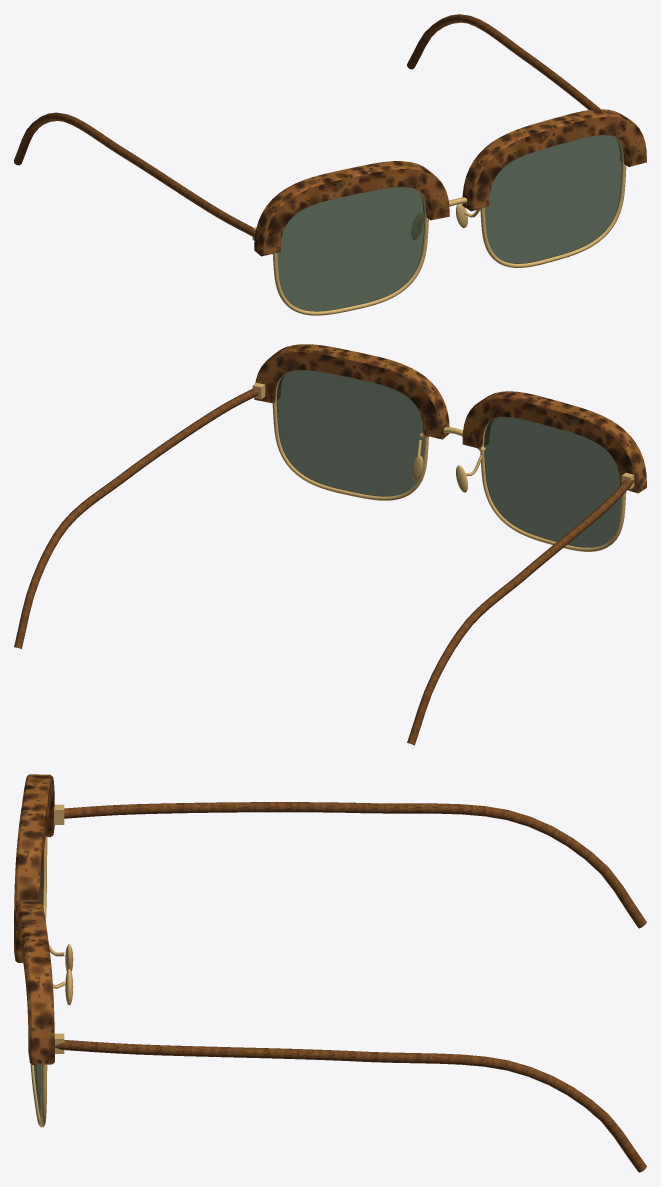
File: BM-S07_Ravi_Havana_Gold_G_15_green_lens.glb
The picture shows the model from 3 angles, top to bottom: view 1: azimuth 30°, elevation 25°; view 2: azimuth 150°, elevation 25°; view 3: azimuth 270°, elevation 25°; orthographic projection. The views are drawn at different scales.
Parts seen in each view (by area): view 1: Ravi_Havana_Gold_G_15_green_lens_Lenses, Ravi_Havana_Gold_G_15_green_lens_Acetate, Ravi_Havana_Gold_G_15_green_lens_Metal; view 2: Ravi_Havana_Gold_G_15_green_lens_Lenses, Ravi_Havana_Gold_G_15_green_lens_Acetate, Ravi_Havana_Gold_G_15_green_lens_Metal; view 3: Ravi_Havana_Gold_G_15_green_lens_Acetate, Ravi_Havana_Gold_G_15_green_lens_Metal.
Boxes of the visible parts, bbox=[...] form: Ravi_Havana_Gold_G_15_green_lens_Lenses: bbox=[277, 135, 622, 311]; Ravi_Havana_Gold_G_15_green_lens_Acetate: bbox=[14, 14, 646, 256]; Ravi_Havana_Gold_G_15_green_lens_Metal: bbox=[252, 136, 626, 315]; Ravi_Havana_Gold_G_15_green_lens_Lenses: bbox=[276, 370, 621, 547]; Ravi_Havana_Gold_G_15_green_lens_Acetate: bbox=[14, 344, 646, 745]; Ravi_Havana_Gold_G_15_green_lens_Metal: bbox=[252, 373, 634, 551]; Ravi_Havana_Gold_G_15_green_lens_Acetate: bbox=[14, 774, 646, 1172]; Ravi_Havana_Gold_G_15_green_lens_Metal: bbox=[30, 804, 73, 1127].
Bounding box in the file's own units: 0.1469 × 0.0493 × 0.1541.
Materials: 3 (1 with a texture image).
